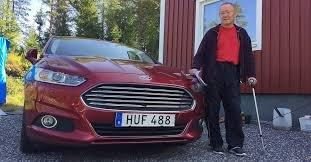license-plates: (115, 113, 176, 128)
